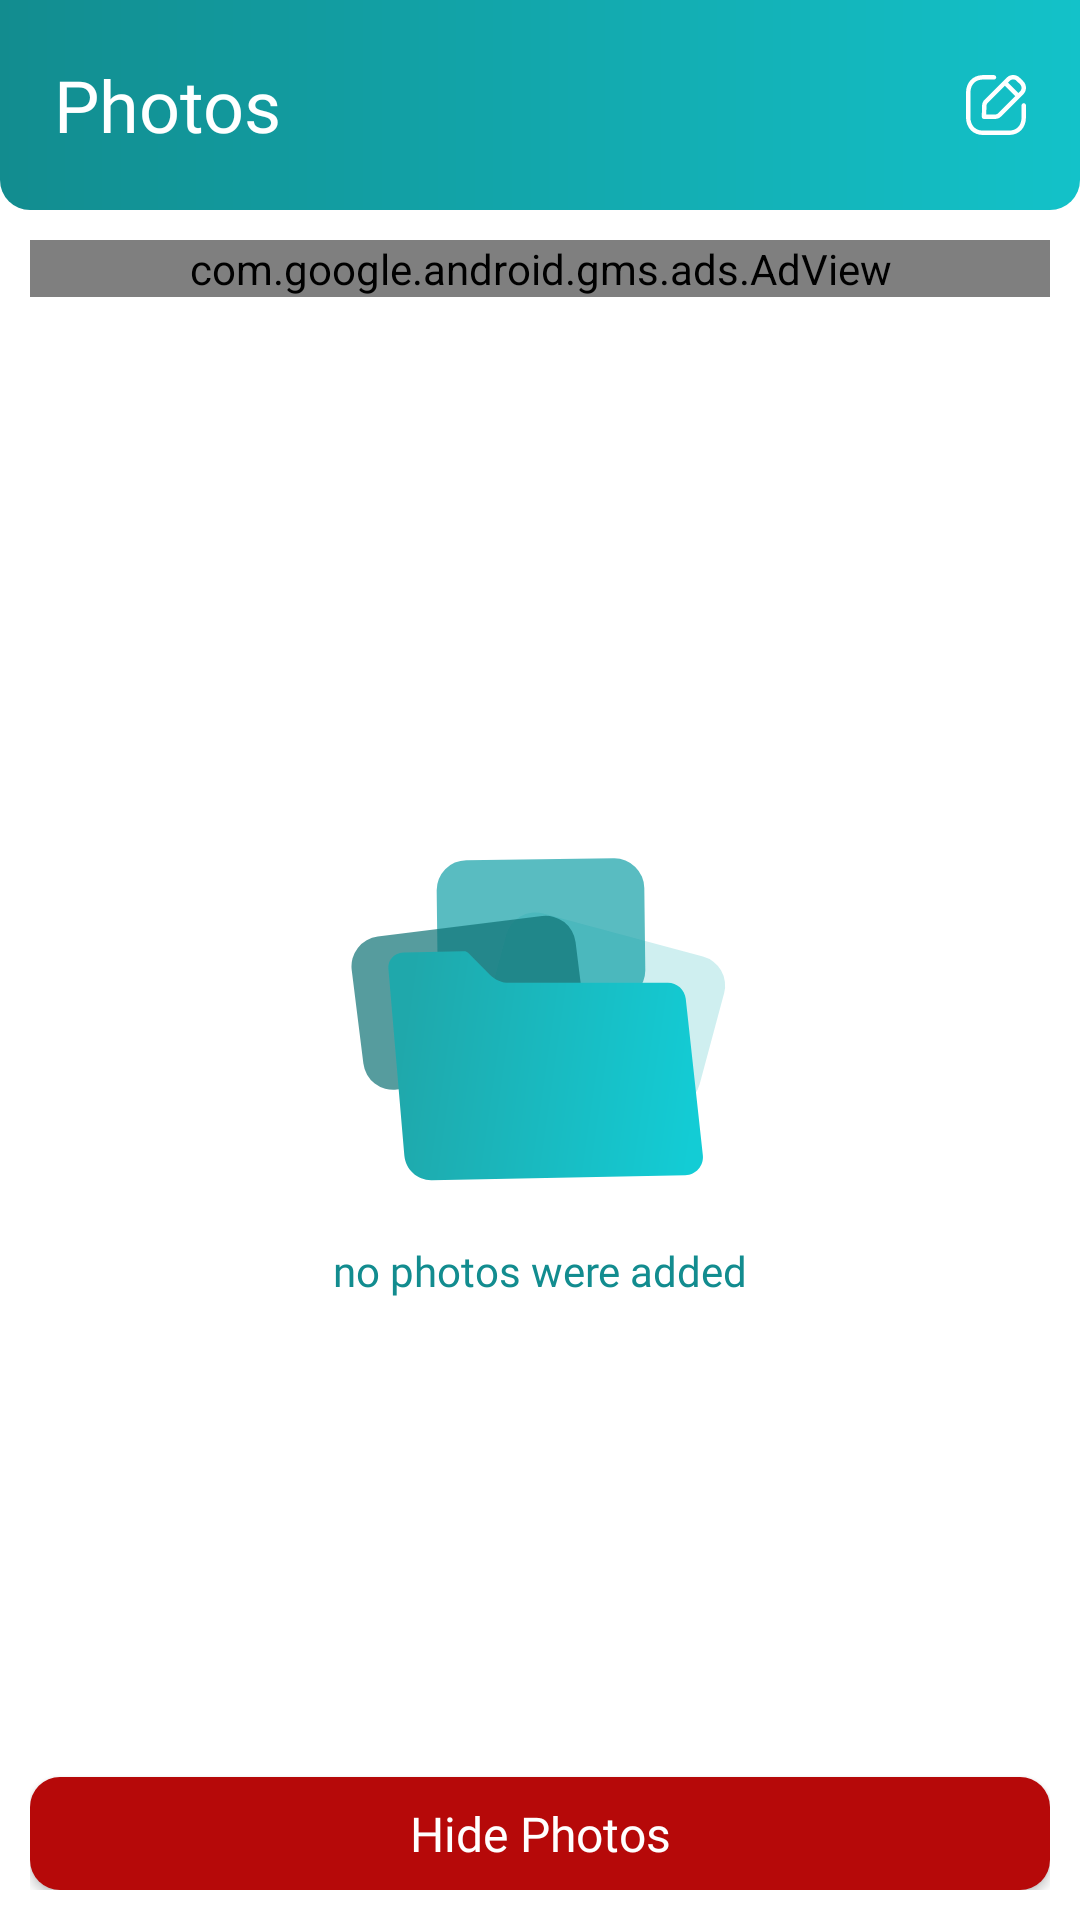

Screen size 1080*1920. Icon name, then its box in pixels as [left=x1, top=y1, right=x2, bottom=y2]:
edit: [left=966, top=75, right=1026, bottom=135]
